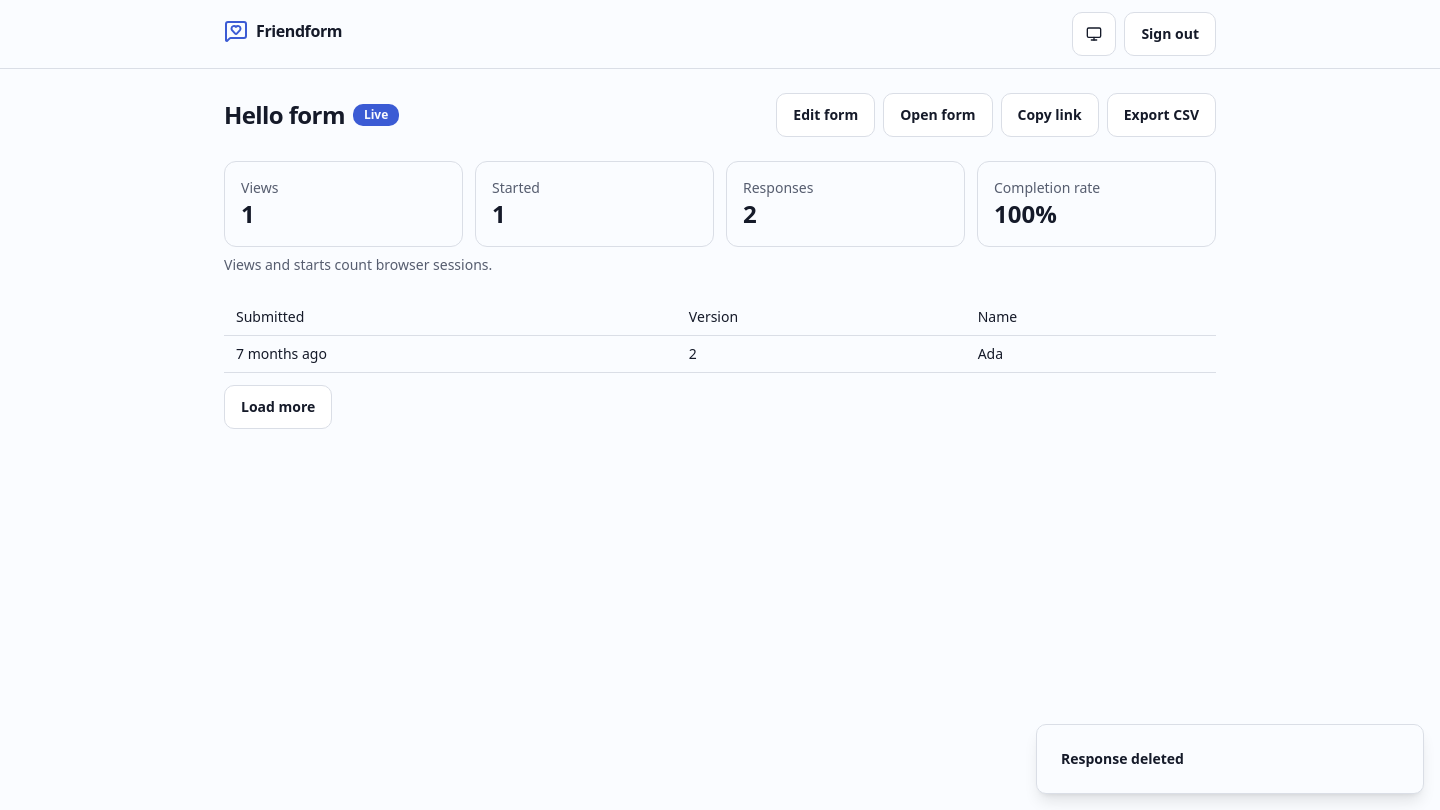
Test: ResponsesPage › requests the before cursor when loading more
Check: the cell "Ada" is shown, box [966,336,1216,372]
Click the button "Load more". click: (278, 407)
box: [224,385,332,429]
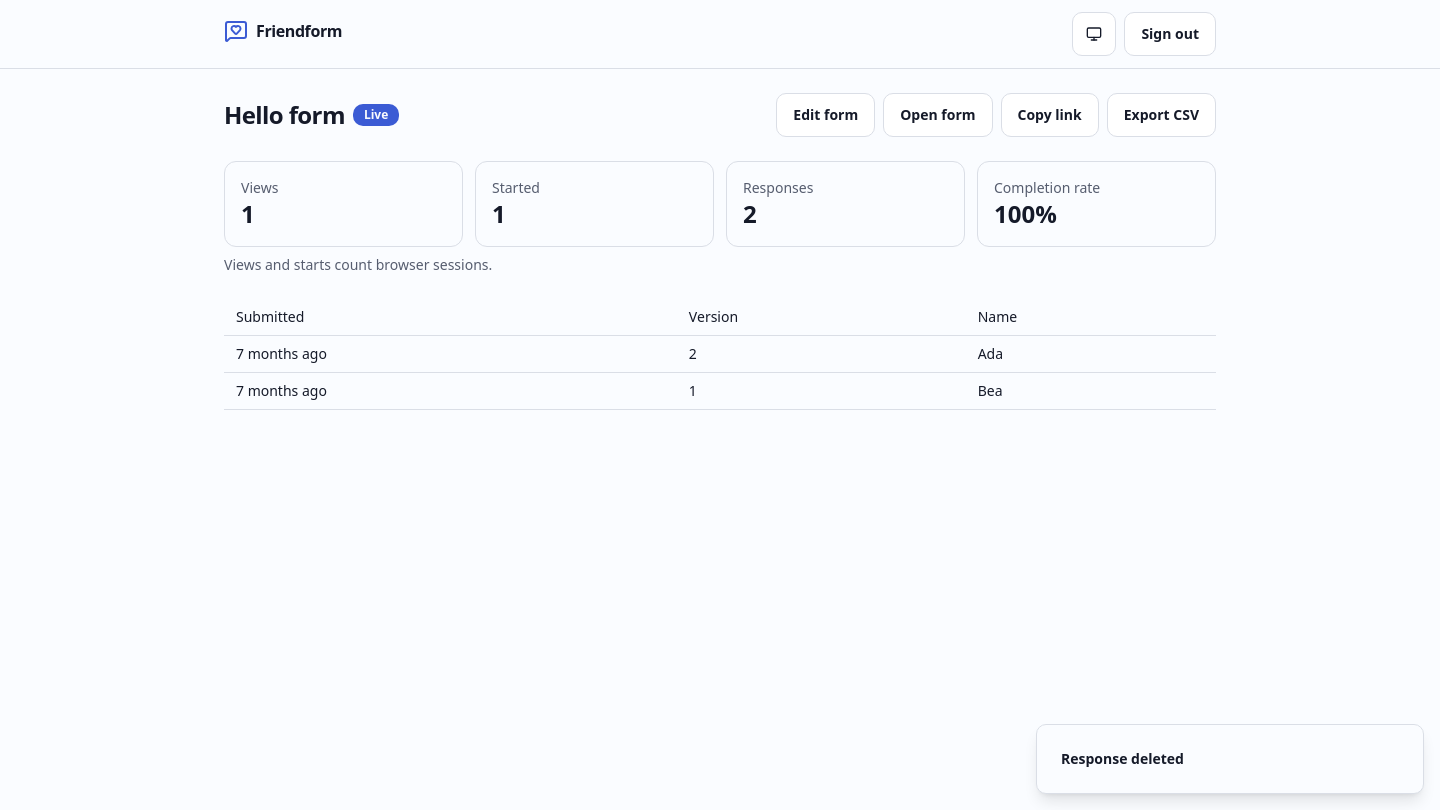
Check: the cell "Bea" is shown, box [966,372,1216,410]
